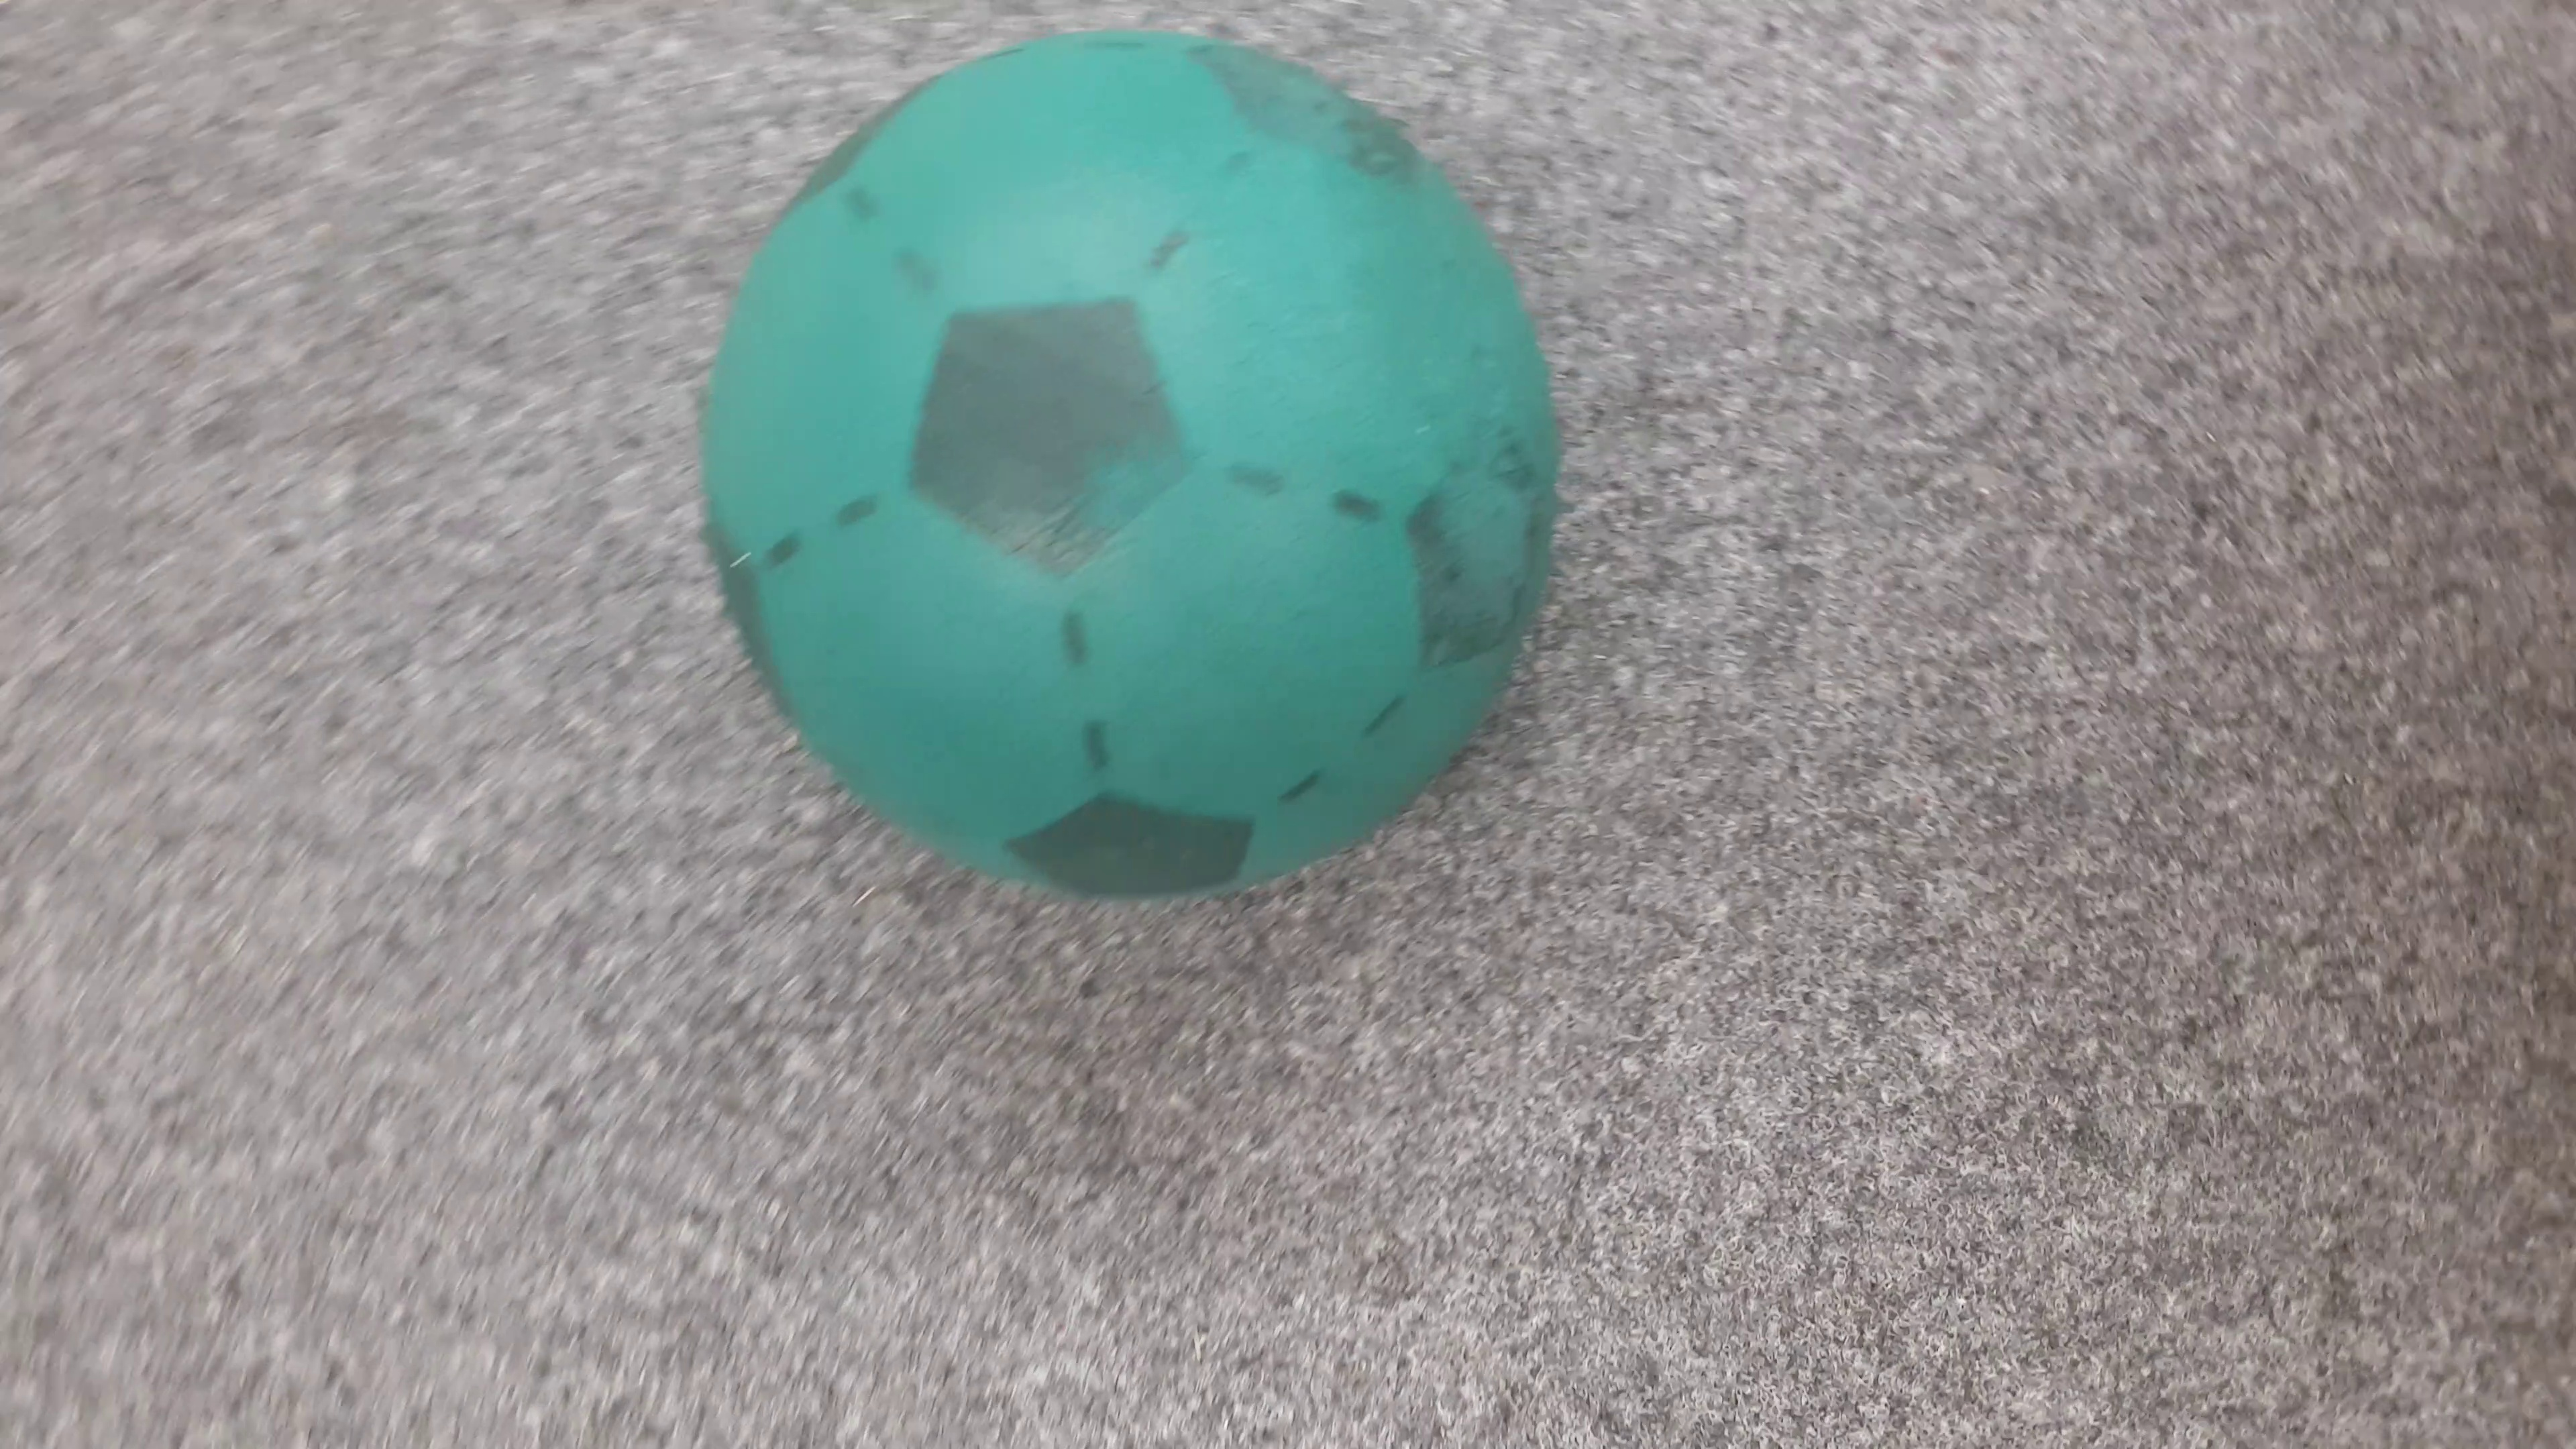kick: (697, 30, 1557, 879)
